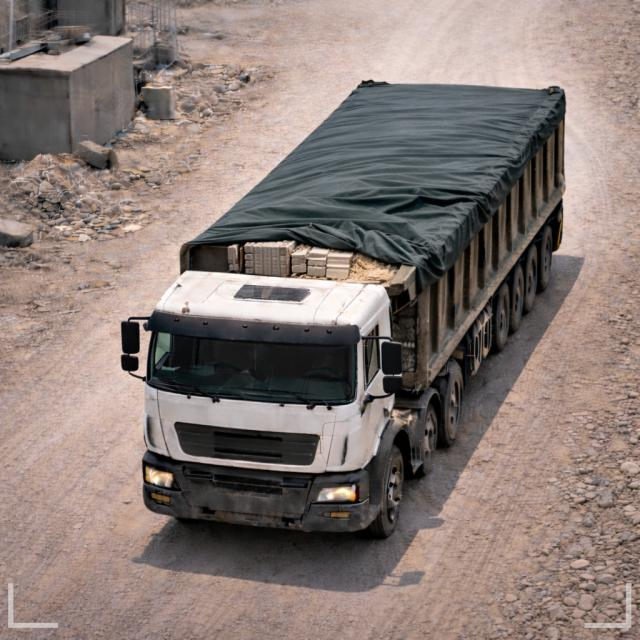trailer: (186, 81, 566, 290)
truck: (118, 83, 574, 537)
